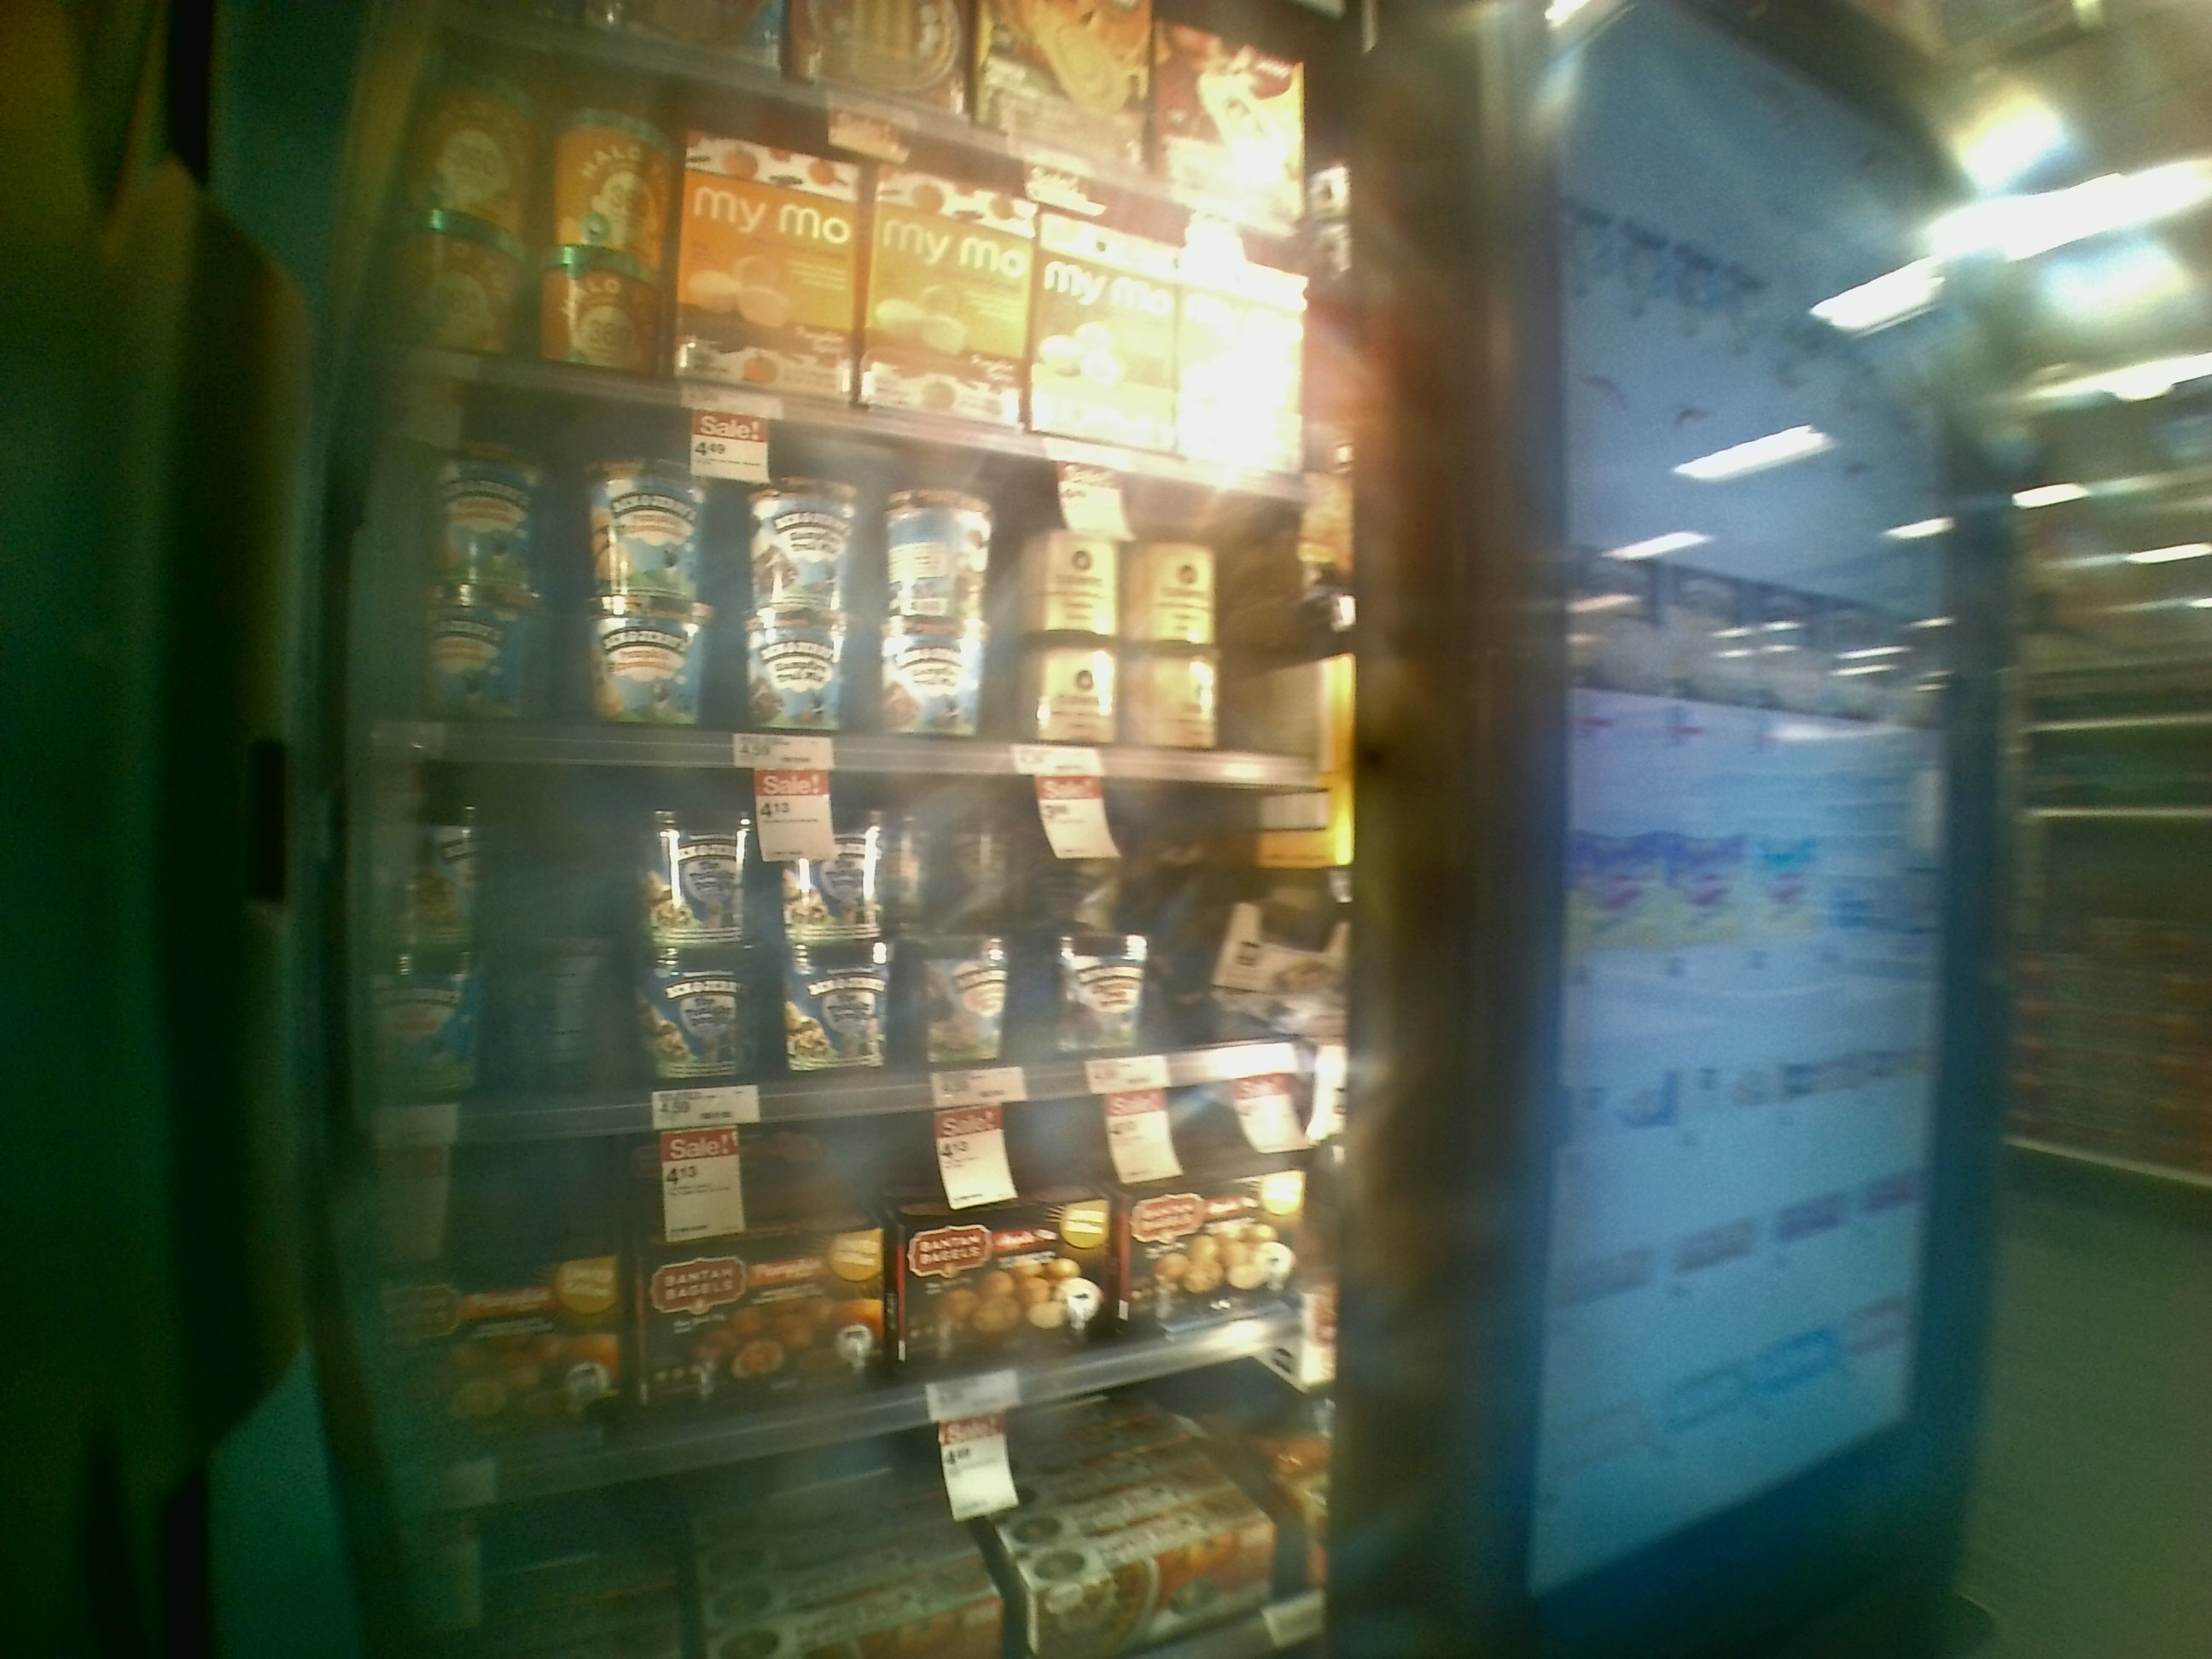shelf: (376, 349, 1374, 781), (340, 1105, 1366, 1490), (334, 735, 1359, 1100)
